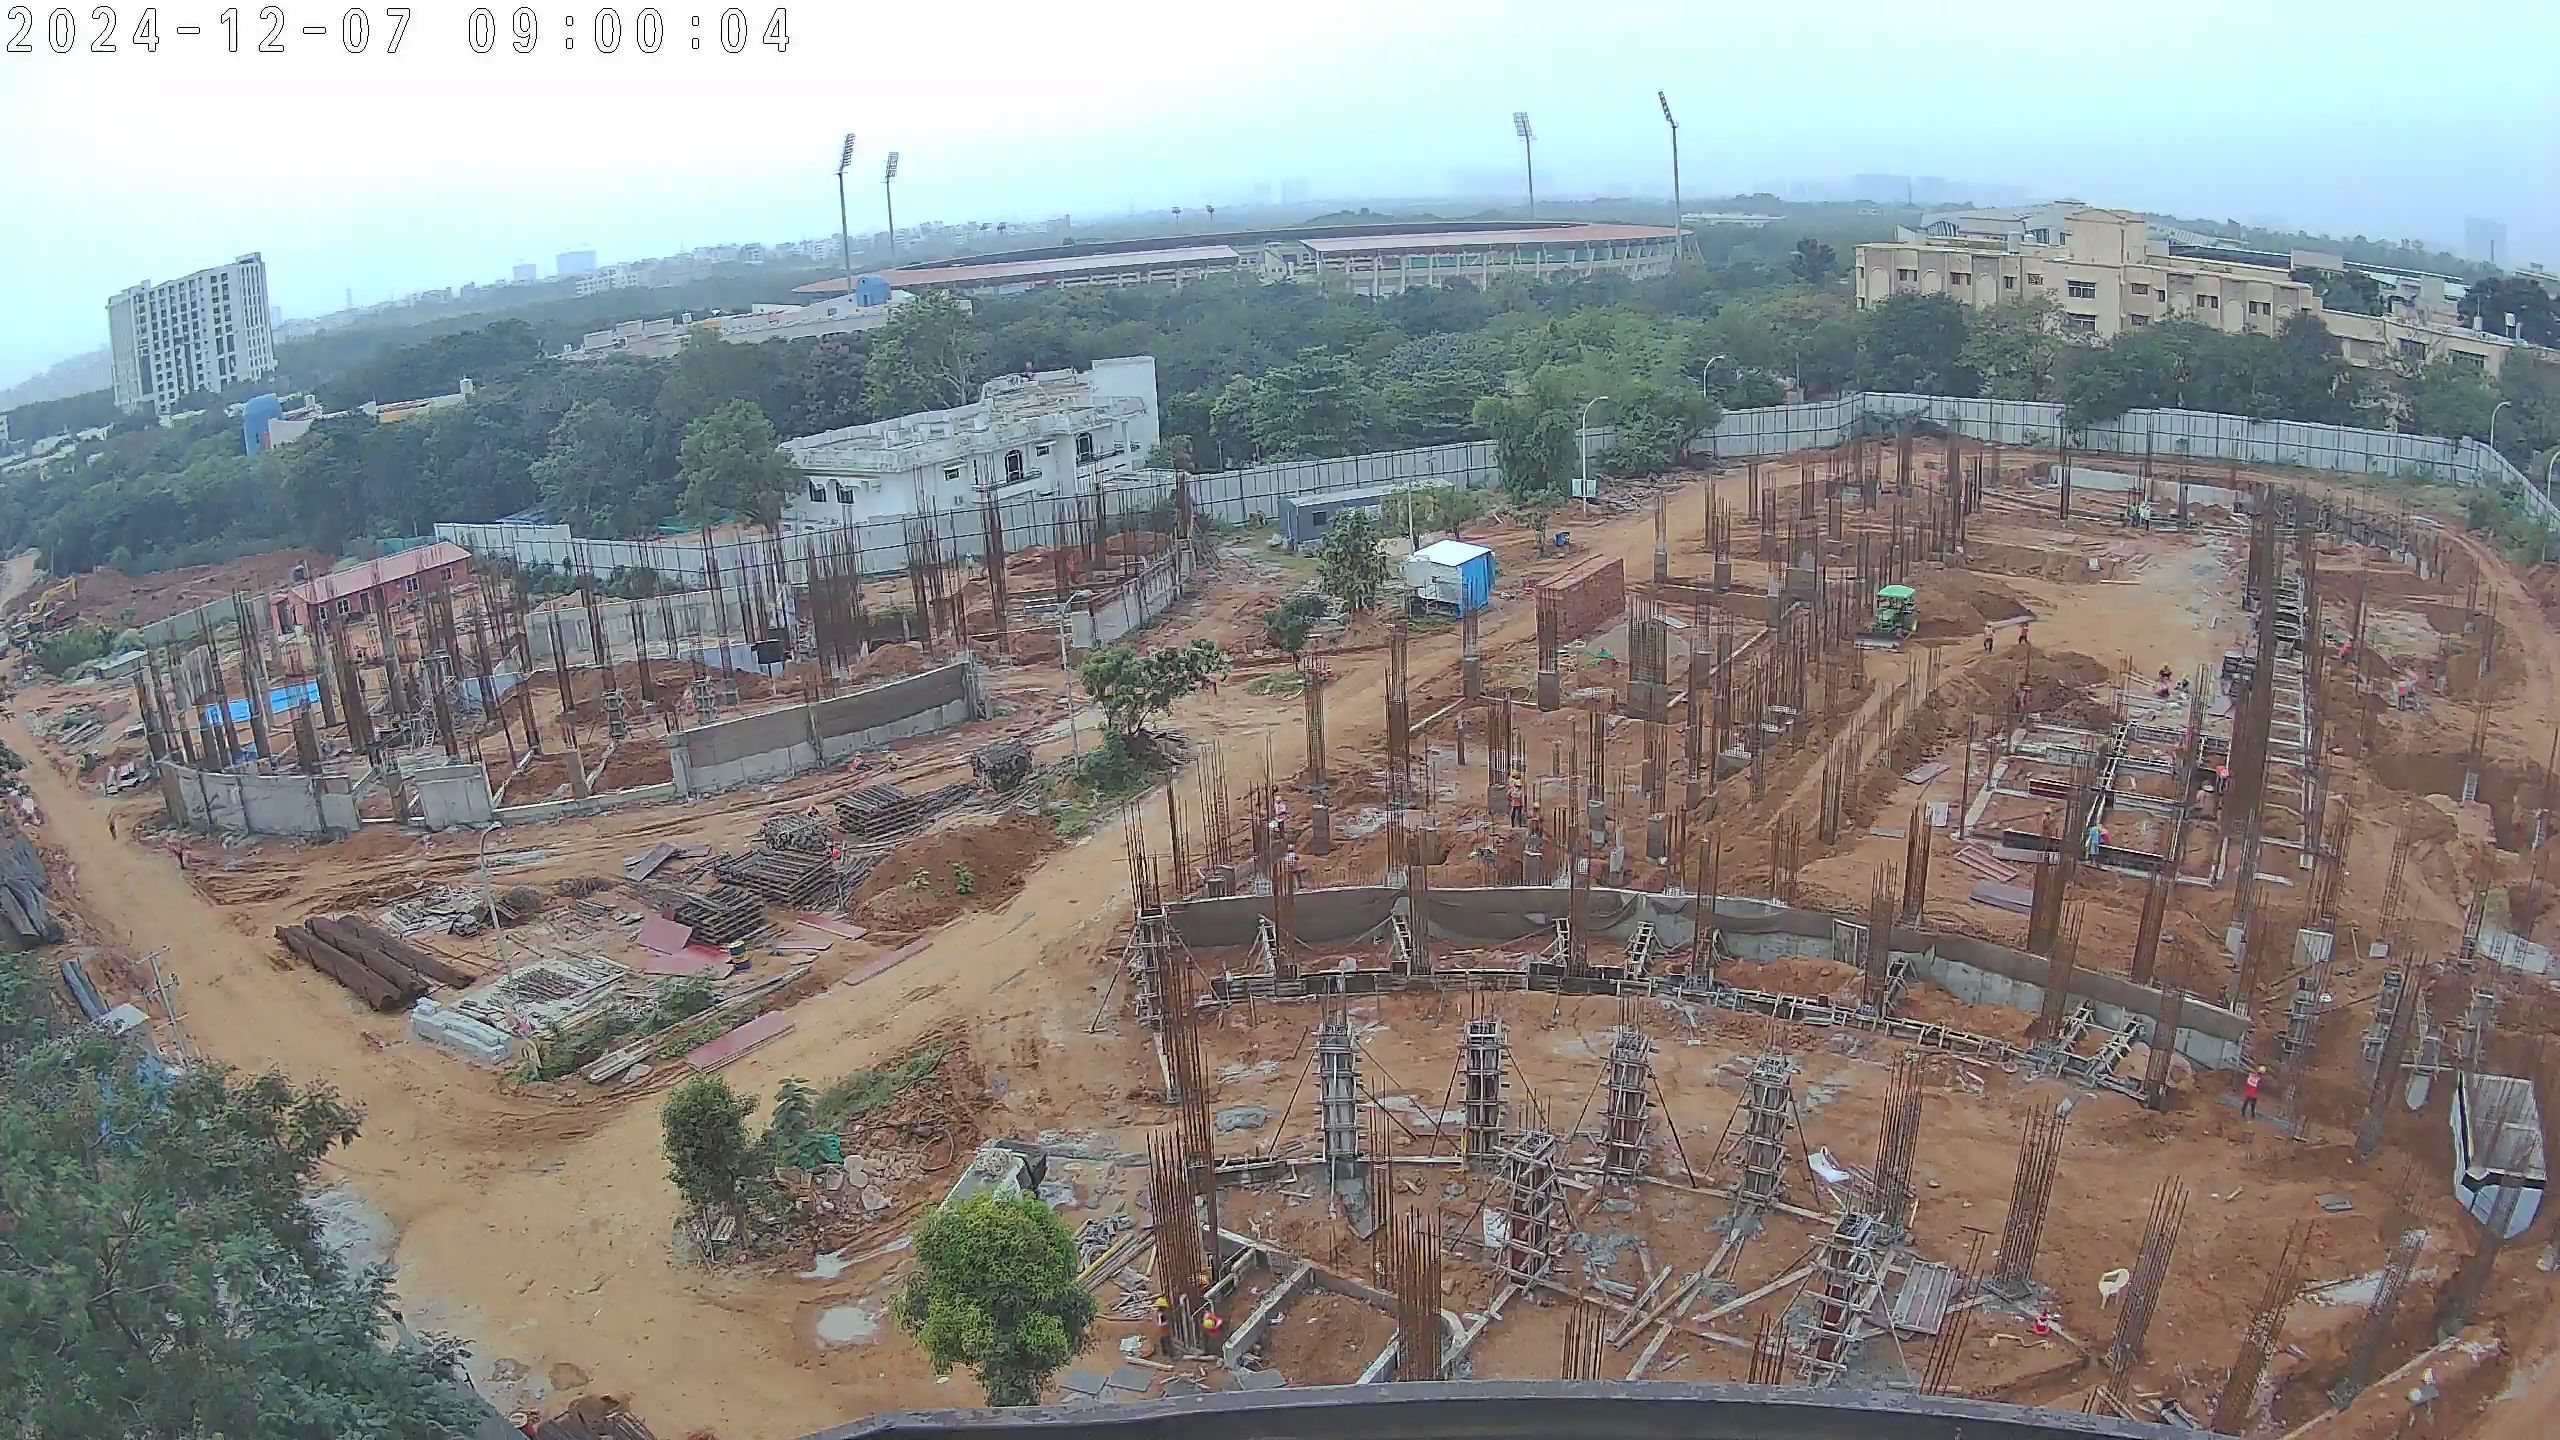bulldozer: (1848, 577, 1926, 659)
worker: (1150, 1297, 1224, 1362), (2239, 1058, 2268, 1122), (2078, 816, 2108, 870), (1502, 775, 1528, 831), (1279, 843, 1306, 891), (2036, 799, 2059, 855), (168, 834, 191, 886), (1268, 794, 1291, 844), (1521, 797, 1544, 841), (2014, 683, 2036, 728), (1976, 621, 2003, 657), (2391, 671, 2411, 716), (99, 811, 121, 847), (2148, 679, 2176, 703), (2176, 668, 2198, 697), (2015, 619, 2033, 650), (2156, 659, 2174, 684)
